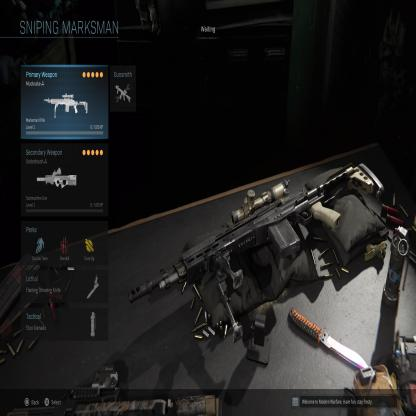Grenade: (382, 226, 410, 312)
Gun: (127, 160, 386, 345), (5, 364, 223, 416)
Knife: (288, 308, 370, 371)
